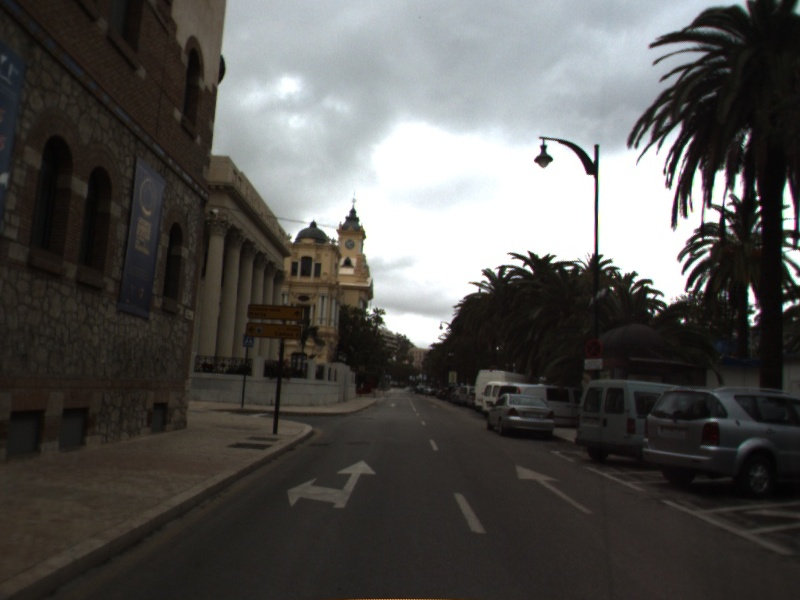STRAIGHT: (514, 463, 597, 516)
STRAIGHT_LEFT: (284, 458, 378, 510)
